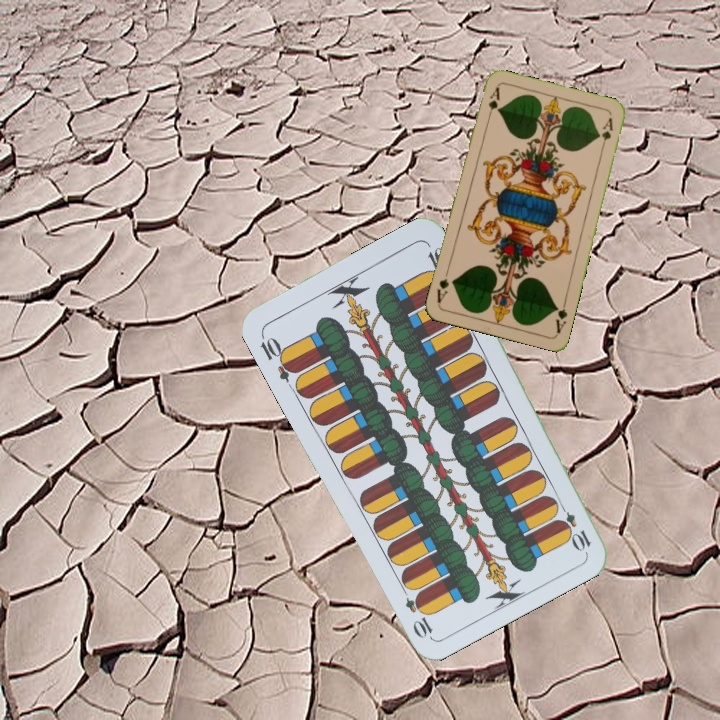E10: (256, 330, 300, 384), (553, 498, 594, 553)
GA: (551, 295, 570, 336), (483, 83, 502, 123)
